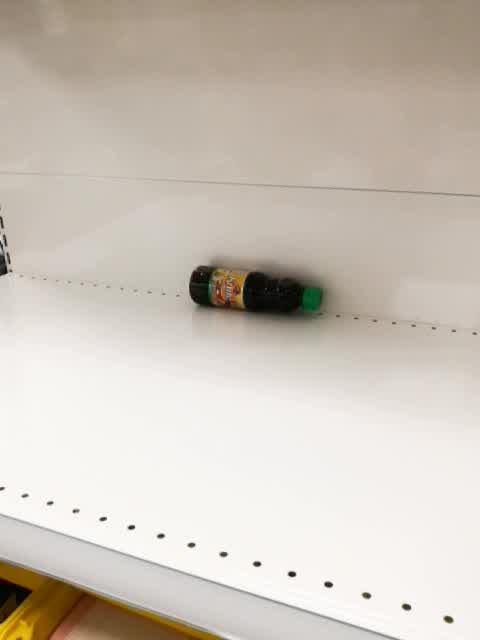cookingoil: (187, 258, 326, 321)
